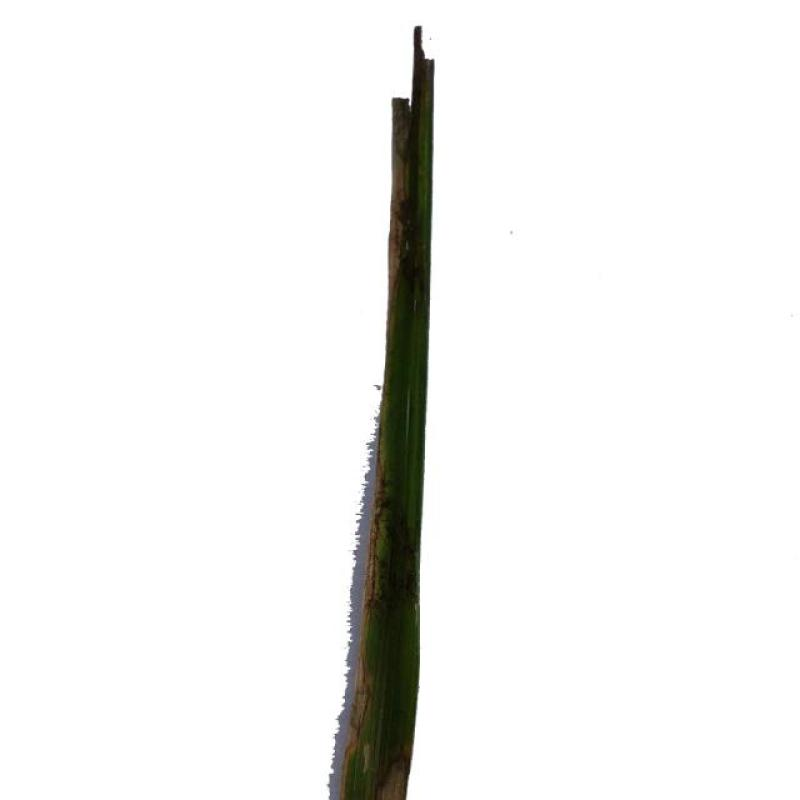Bacterial_Leaf_Blight: (344, 464, 378, 800), (414, 738, 416, 756)
